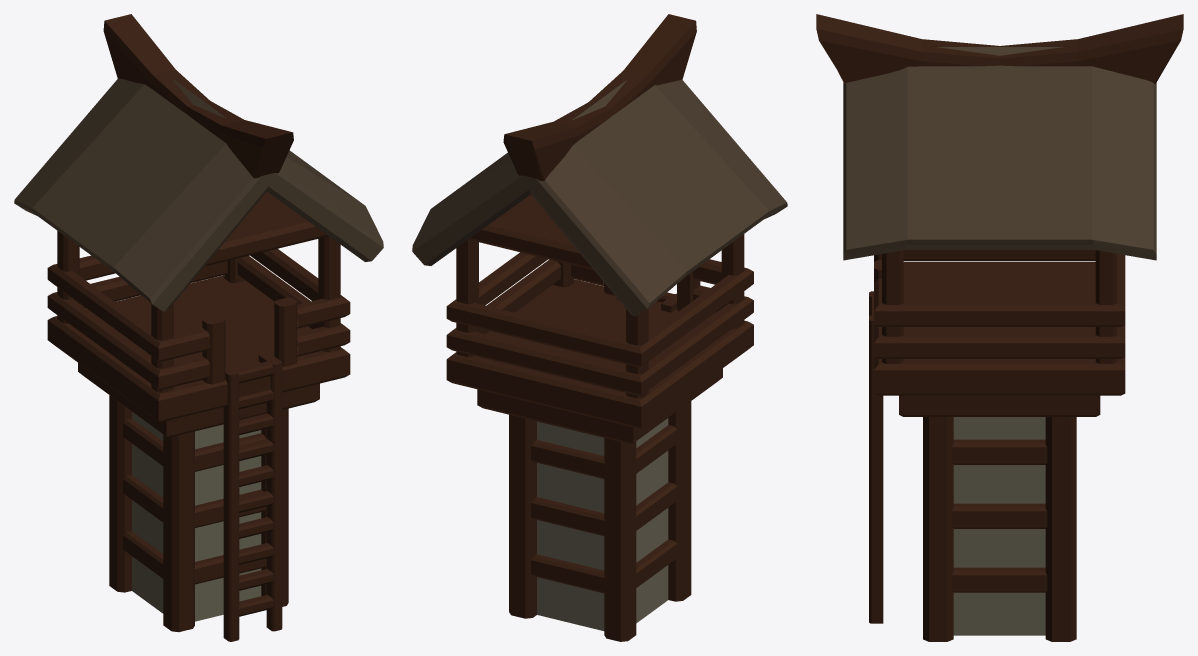
File: TorreRobusta.fbx
3 views of the same model, side by side, from view 1: azimuth 30°, elevation 25°; view 2: azimuth 150°, elevation 25°; view 3: azimuth 270°, elevation 25° (orthographic). The views are drawn at different scales.
Parts seen in each view (by area): view 1: TorreRobusta_LOD0; view 2: TorreRobusta_LOD0; view 3: TorreRobusta_LOD0.
Boxes of the visible parts, x1,y1,x2,y2 form: TorreRobusta_LOD0: [14, 14, 383, 641]; TorreRobusta_LOD0: [412, 14, 787, 641]; TorreRobusta_LOD0: [816, 14, 1183, 641].
Size of what is drawn, in the model's own units: 656 by 1288 by 729.
